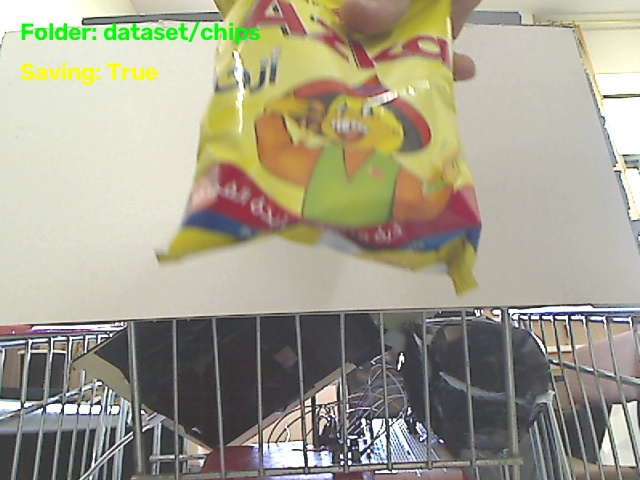chips: (159, 0, 480, 293)
